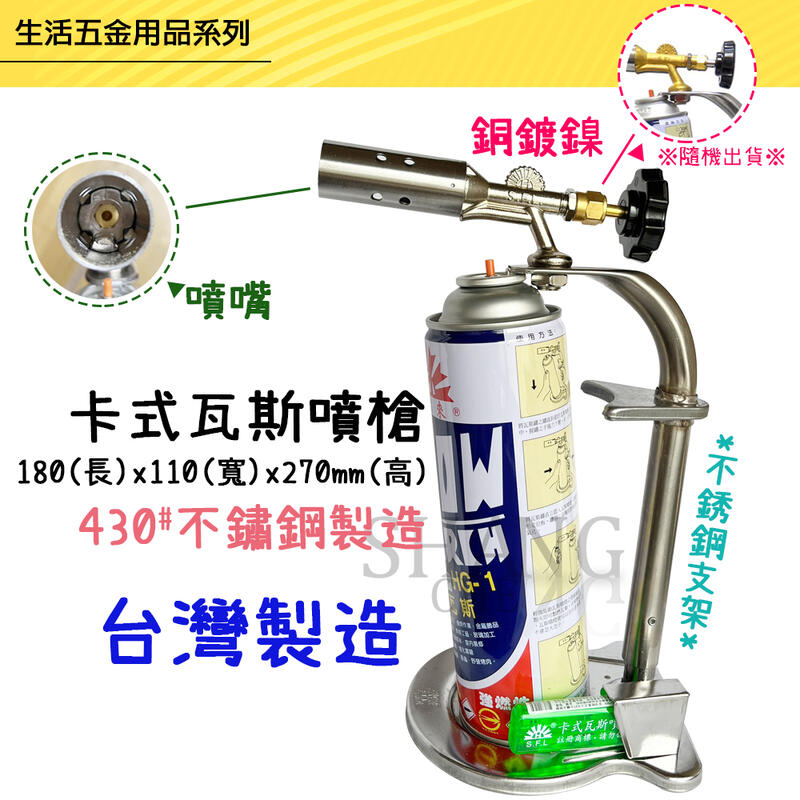gastorch: (316, 136, 723, 793)
